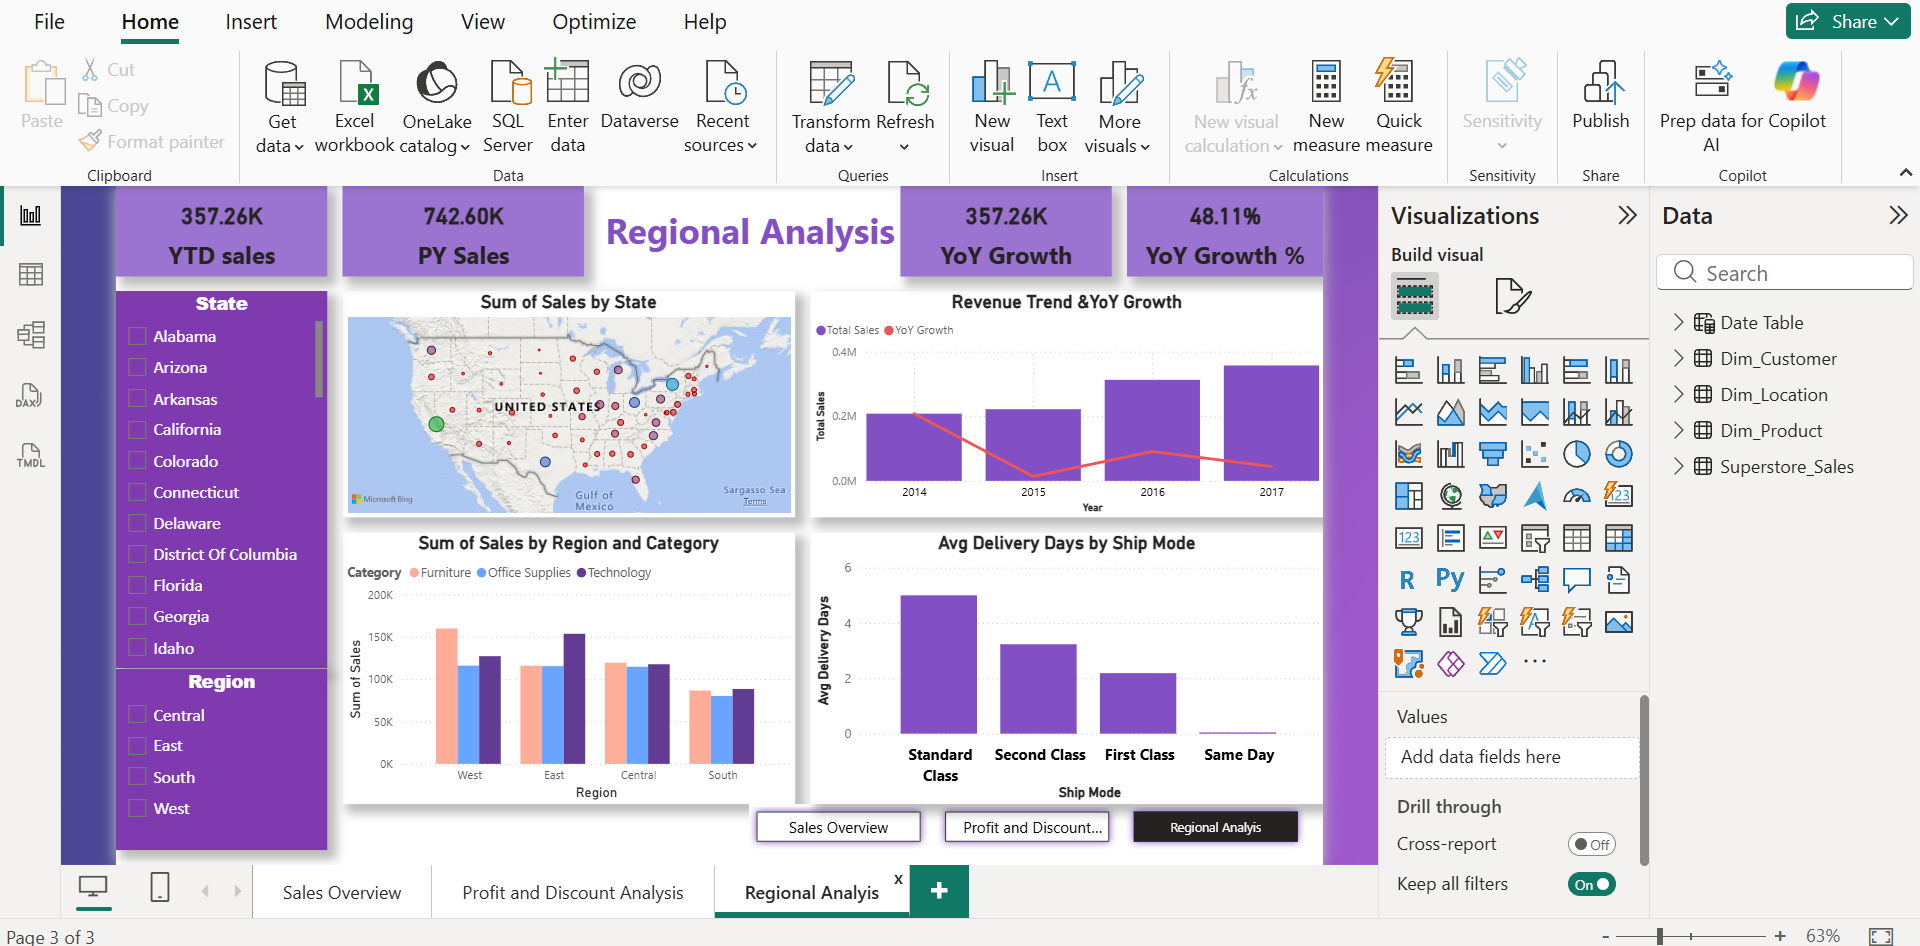

The dashboard page shown, as its layout file describes it:
{"tool":"powerbi","page":{"name":"Regional Analyis","canvas":[1280,720],"ordinal":2},"visuals":[{"type":"map","fields":{"Size":["Sum(SuperStore_Sales.Sales)"],"Category":["Dim_Location.State","Dim_Location.City"]},"box":[240,112,480,240],"z":0},{"type":"clusteredColumnChart","fields":{"Category":["Dim_Location.Region"],"Y":["Sum(SuperStore_Sales.Sales)"],"Series":["SuperStore_Sales.Category"]},"box":[240,368,480,288],"z":1000},{"type":"textbox","box":[448,16,448,64],"z":2000},{"type":"pageNavigator","box":[672,656,592,48],"z":3000},{"type":"lineClusteredColumnComboChart","title":"Revenue Trend &YoY Growth","fields":{"Y":["SuperStore_Sales.Total Sales"],"Category":["Date Table.Date.Variation.Date Hierarchy.Year"],"Y2":["SuperStore_Sales.YOY Growth"]},"box":[736,112,544,240],"z":4000},{"type":"card","fields":{"Values":["SuperStore_Sales.YTD sales"]},"box":[0,0,224,96],"z":5000},{"type":"card","fields":{"Values":["SuperStore_Sales.PY Sales"]},"box":[240,0,256,96],"z":6000},{"type":"card","fields":{"Values":["SuperStore_Sales.YOY Growth"]},"box":[832,0,224,96],"z":7000},{"type":"card","fields":{"Values":["SuperStore_Sales.YoY Growth %"]},"box":[1072,0,208,96],"z":8000},{"type":"slicer","title":"State","fields":{"Values":["SuperStore_Sales.State"]},"box":[0,112,224,400],"z":9000},{"type":"slicer","title":"Region","fields":{"Values":["SuperStore_Sales.Region"]},"box":[0,512,224,192],"z":10000},{"type":"columnChart","fields":{"Y":["SuperStore_Sales.Avg Delivery Days"],"Category":["SuperStore_Sales.Ship Mode"]},"box":[736,368,544,288],"z":11000}]}

Visuals, with their boxes on the page's 1280x720 design canvas (x1, y1, x2, y2). These are canvas units, not pixel positions in the 1920x946 screenshot, which may show the page scaled, cropped or inside an application window:
map - Sum(SuperStore_Sales.Sales) x Dim_Location.State: region(240, 112, 720, 352)
clusteredColumnChart - Dim_Location.Region x Sum(SuperStore_Sales.Sales): region(240, 368, 720, 656)
textbox: region(448, 16, 896, 80)
pageNavigator: region(672, 656, 1264, 704)
"Revenue Trend &YoY Growth" lineClusteredColumnComboChart: region(736, 112, 1280, 352)
card - SuperStore_Sales.YTD sales: region(0, 0, 224, 96)
card - SuperStore_Sales.PY Sales: region(240, 0, 496, 96)
card - SuperStore_Sales.YOY Growth: region(832, 0, 1056, 96)
card - SuperStore_Sales.YoY Growth %: region(1072, 0, 1280, 96)
"State" slicer: region(0, 112, 224, 512)
"Region" slicer: region(0, 512, 224, 704)
columnChart - SuperStore_Sales.Avg Delivery Days x SuperStore_Sales.Ship Mode: region(736, 368, 1280, 656)
